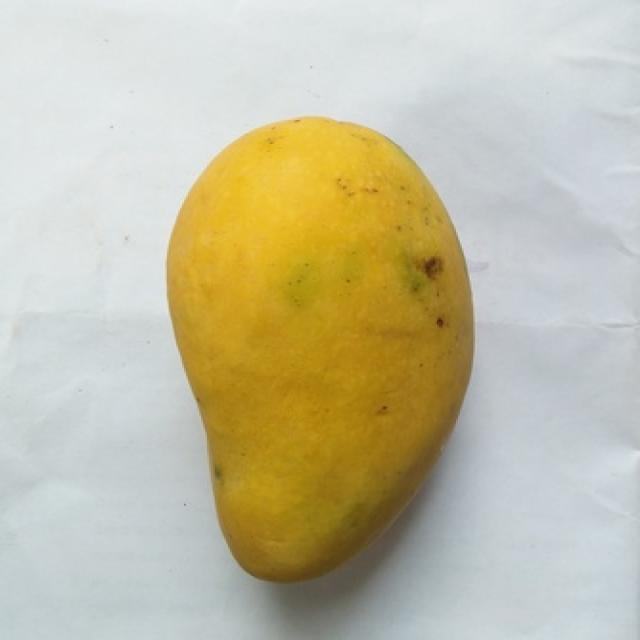Mango: (169, 117, 471, 581)
